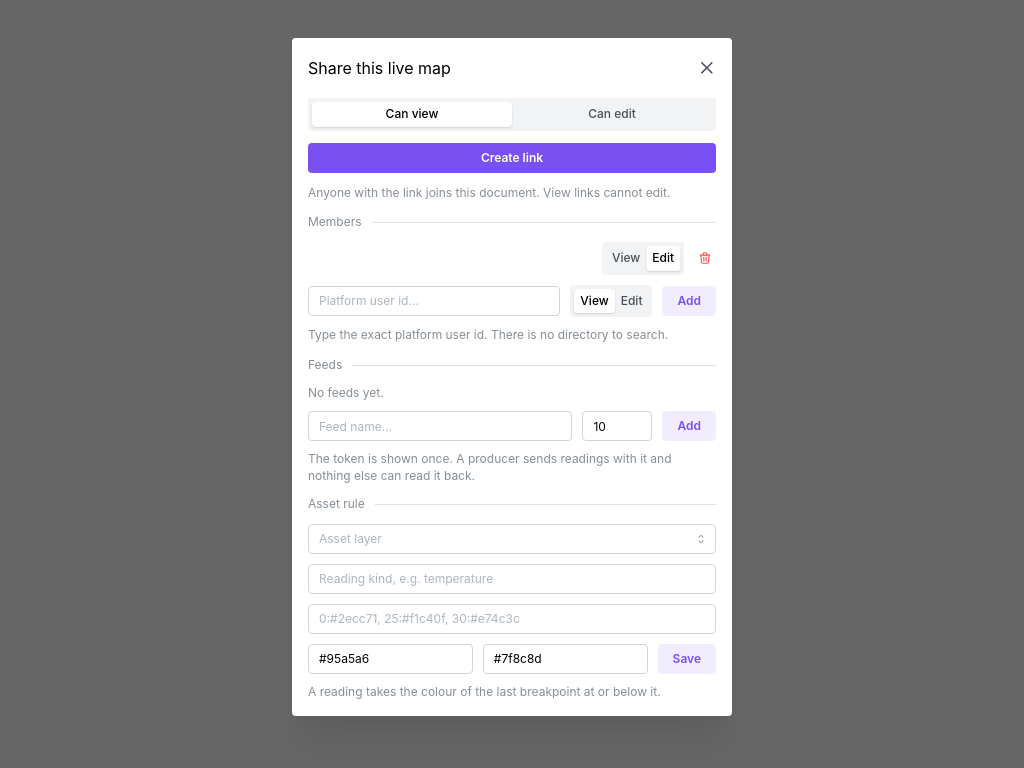
it: live session ui › shows the refusal when the last editor cannot be demoted
The width and height of the screenshot is (1024, 768).
Click the text "View" in the row of "ada": {"x": 626, "y": 258} x1=612 y1=250 x2=640 y2=265
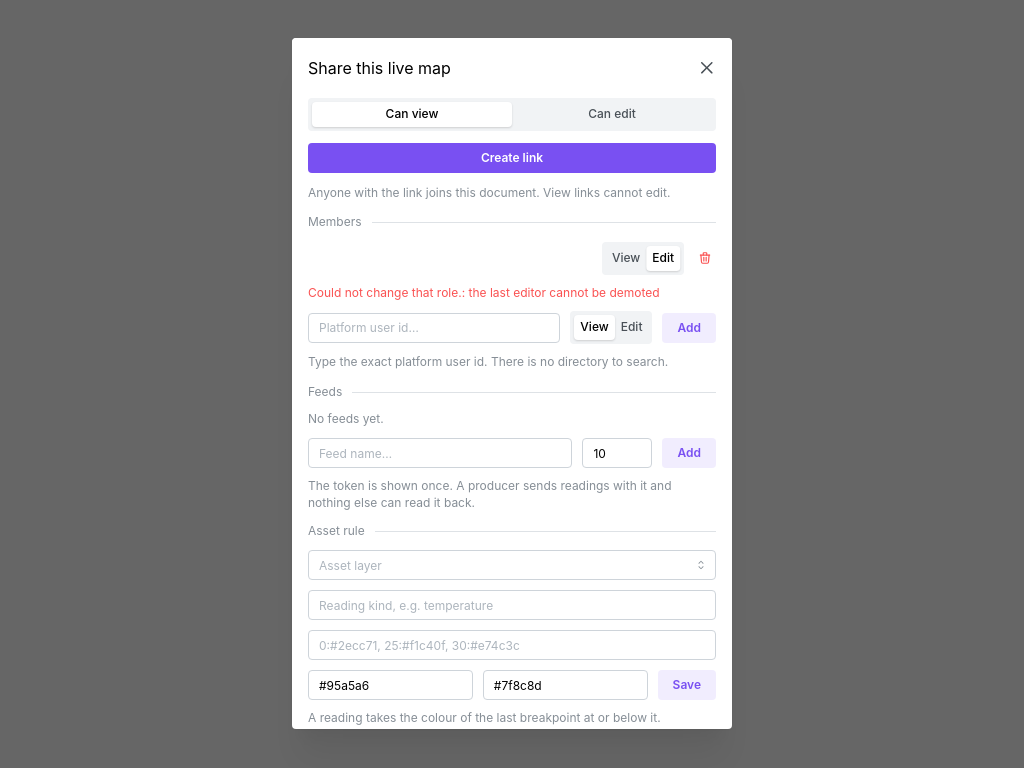
Expected: the radio button labelled "Edit" in the row of "ada" is checked, x1=652 y1=250 x2=674 y2=265
Expected: the text with test id "live-member-error" shows "the last editor cannot be demoted", x1=308 y1=285 x2=660 y2=300
